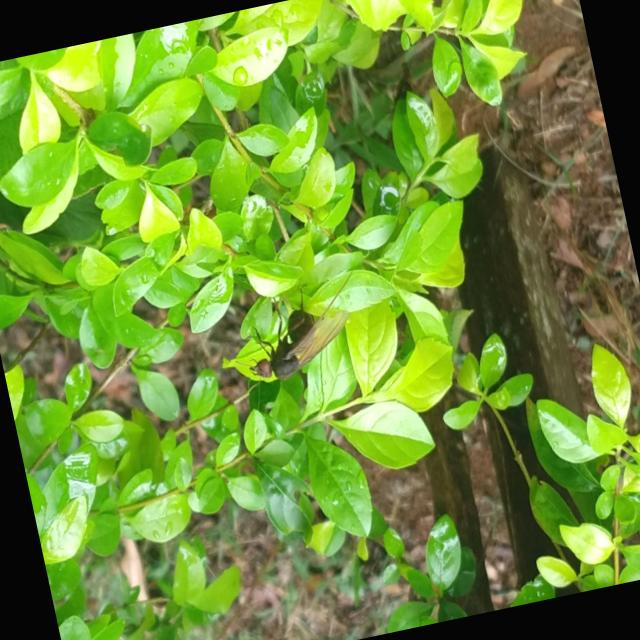Alive-Female-Alate: (222, 270, 373, 395)
